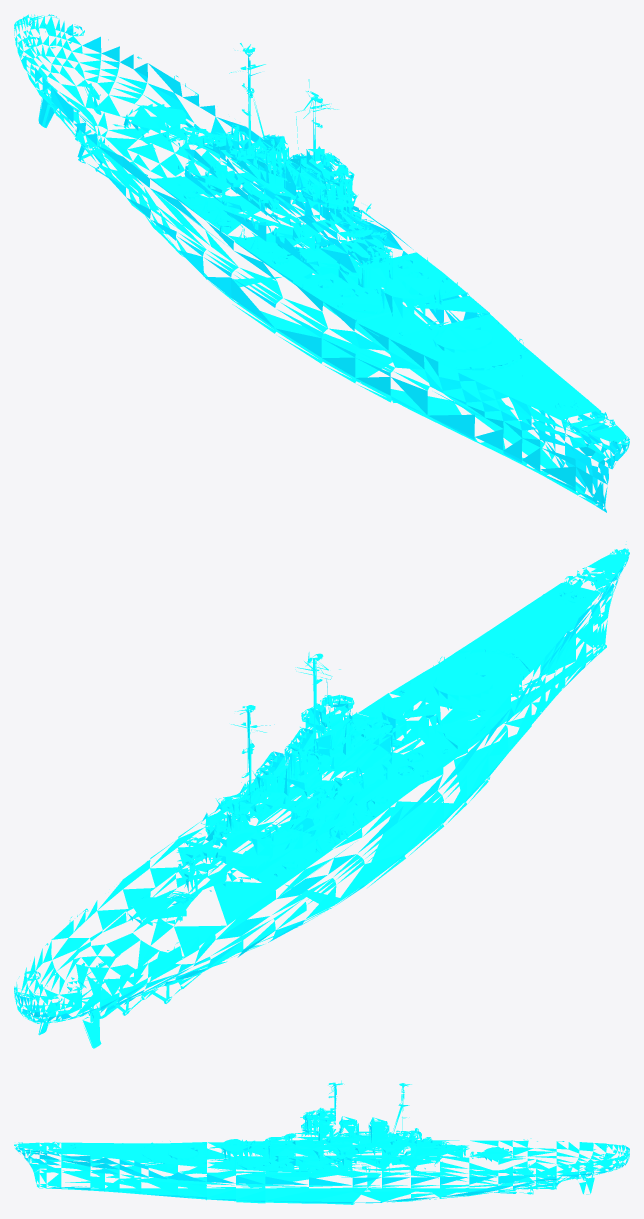
Rendered from Admiral_Ushakov.glb.
The picture shows the model from 3 angles, top to bottom: view 1: azimuth 30°, elevation 25°; view 2: azimuth 150°, elevation 25°; view 3: azimuth 270°, elevation 25°; orthographic projection. The views are drawn at different scales.
Size of the model in its own units: 2.91 by 4.49 by 22.55.
